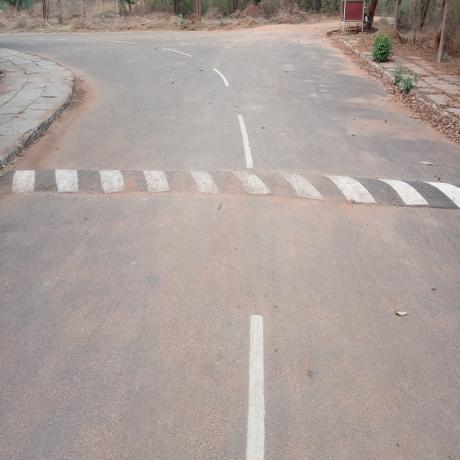Speed Bump: (7, 165, 459, 210)
